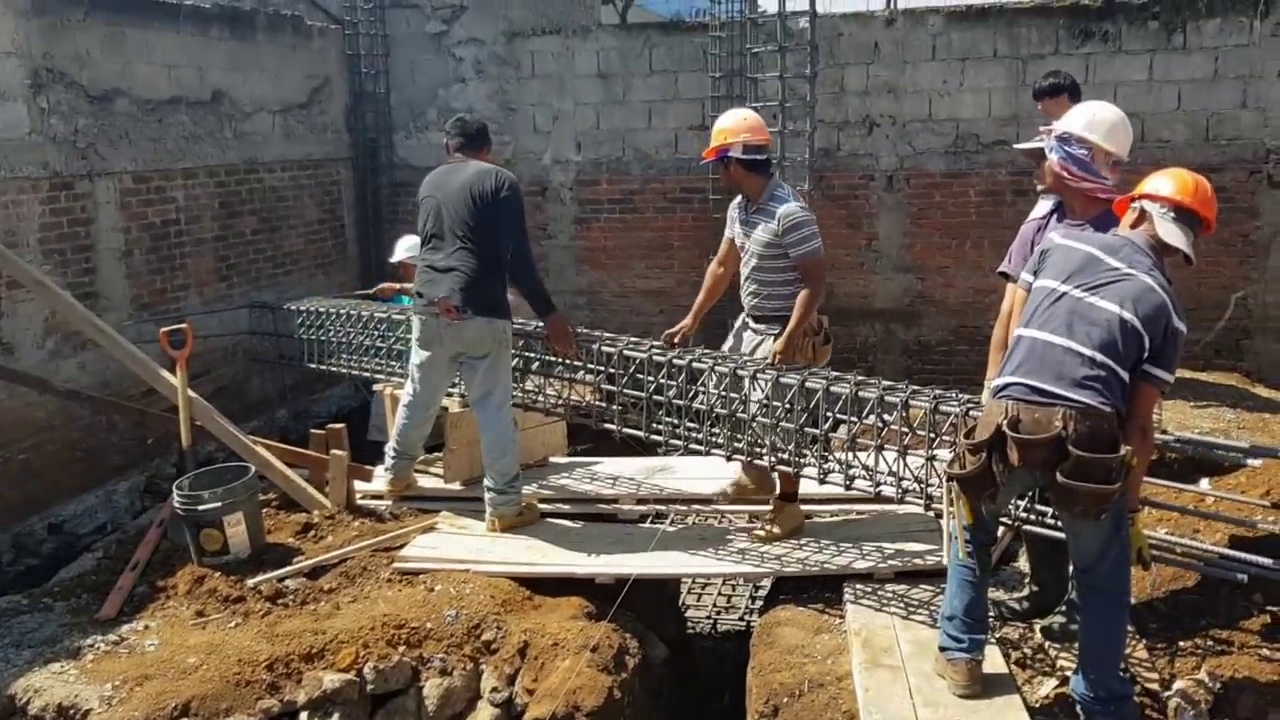helmet: (1121, 168, 1217, 238), (1041, 104, 1136, 169), (696, 110, 782, 166), (386, 233, 421, 266)
helmet-off: (1034, 70, 1087, 121), (441, 117, 489, 163)
helmet-on: (1039, 105, 1138, 225), (1108, 166, 1219, 266), (698, 106, 780, 203), (385, 233, 423, 283)
person: (933, 126, 1236, 715), (372, 118, 580, 550), (990, 84, 1157, 444), (672, 112, 815, 516)
